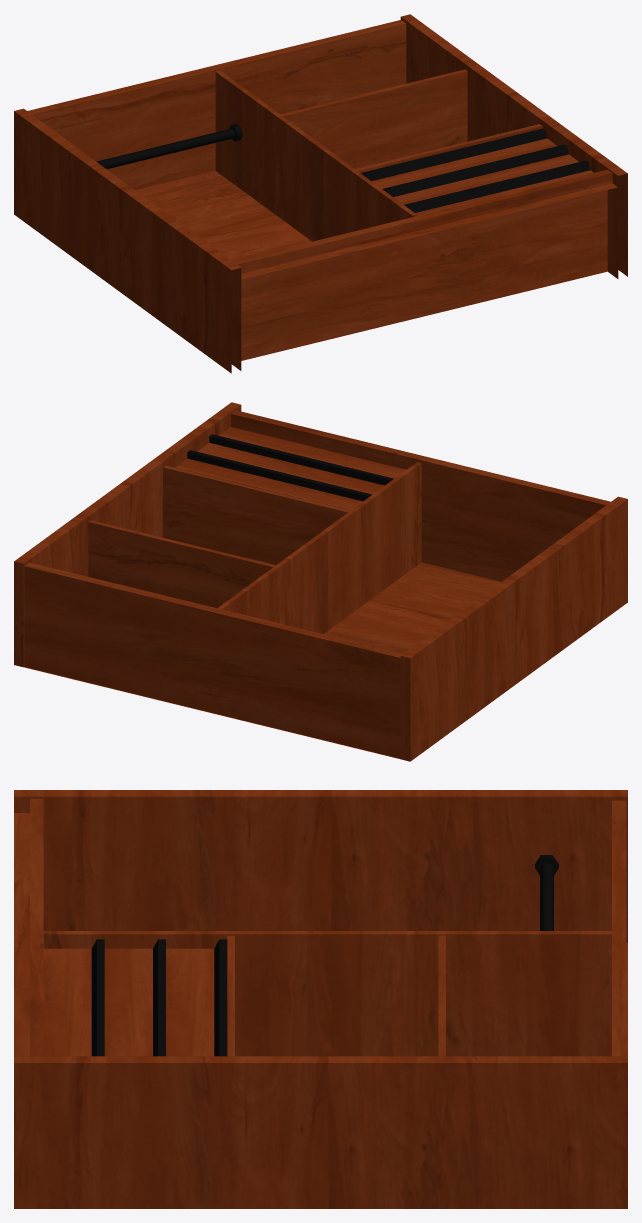
File: mH_ClosetShelf.fbx
The picture shows the model from 3 angles, top to bottom: view 1: azimuth 30°, elevation 25°; view 2: azimuth 150°, elevation 25°; view 3: azimuth 270°, elevation 25°; orthographic projection. The views are drawn at different scales.
Visible parts, largest first — view 1: mH_ClosetShelf; view 2: mH_ClosetShelf; view 3: mH_ClosetShelf.
Boxes of the visible parts, x1,y1,x2,y2 form: mH_ClosetShelf: (14, 14, 627, 373); mH_ClosetShelf: (14, 402, 627, 761); mH_ClosetShelf: (14, 790, 627, 1208).
Bounding box in the file's own units: 283 × 70.6 × 269.
